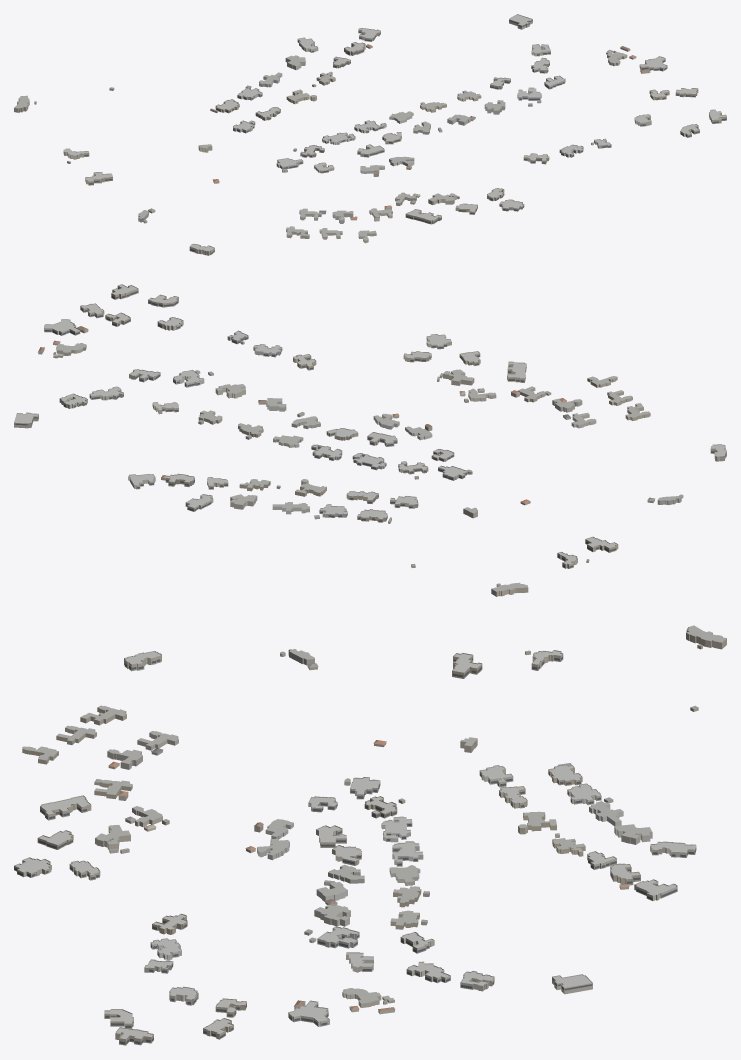
The model's file is buildings_r6_c0.glb.
3 views of the same model, one above another, from view 1: azimuth 30°, elevation 25°; view 2: azimuth 150°, elevation 25°; view 3: azimuth 270°, elevation 25° (orthographic). The views are drawn at different scales.
Visible parts, largest first — view 1: buildings_r6_c0; view 2: buildings_r6_c0; view 3: buildings_r6_c0.
Boxes of the visible parts, x1=… form: buildings_r6_c0: x1=14, y1=14, x2=726, y2=255; buildings_r6_c0: x1=14, y1=284, x2=726, y2=596; buildings_r6_c0: x1=14, y1=625, x2=726, y2=1045.
Size of the model in its own units: 1127 by 67.46 by 826.
